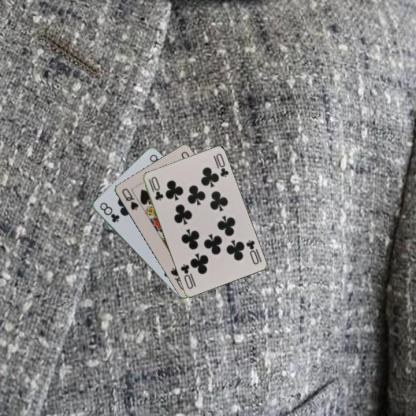10c: (146, 174, 164, 202), (243, 237, 260, 266)
8c: (97, 200, 121, 224)
Qs: (119, 186, 140, 212)
